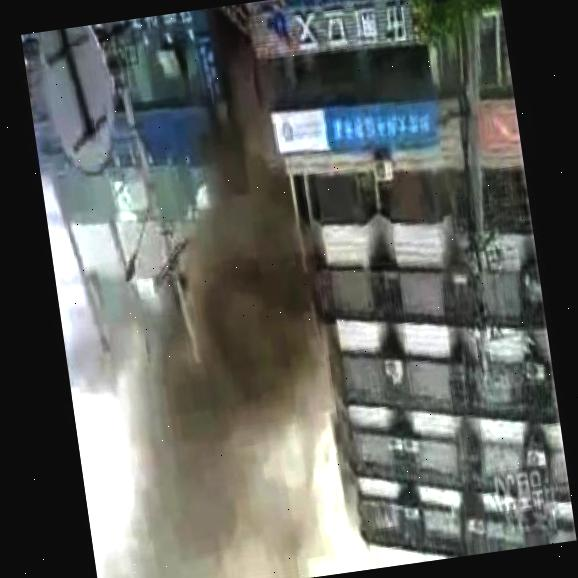smoke: (197, 179, 338, 451), (99, 470, 345, 578), (109, 325, 236, 497), (227, 39, 273, 176)
